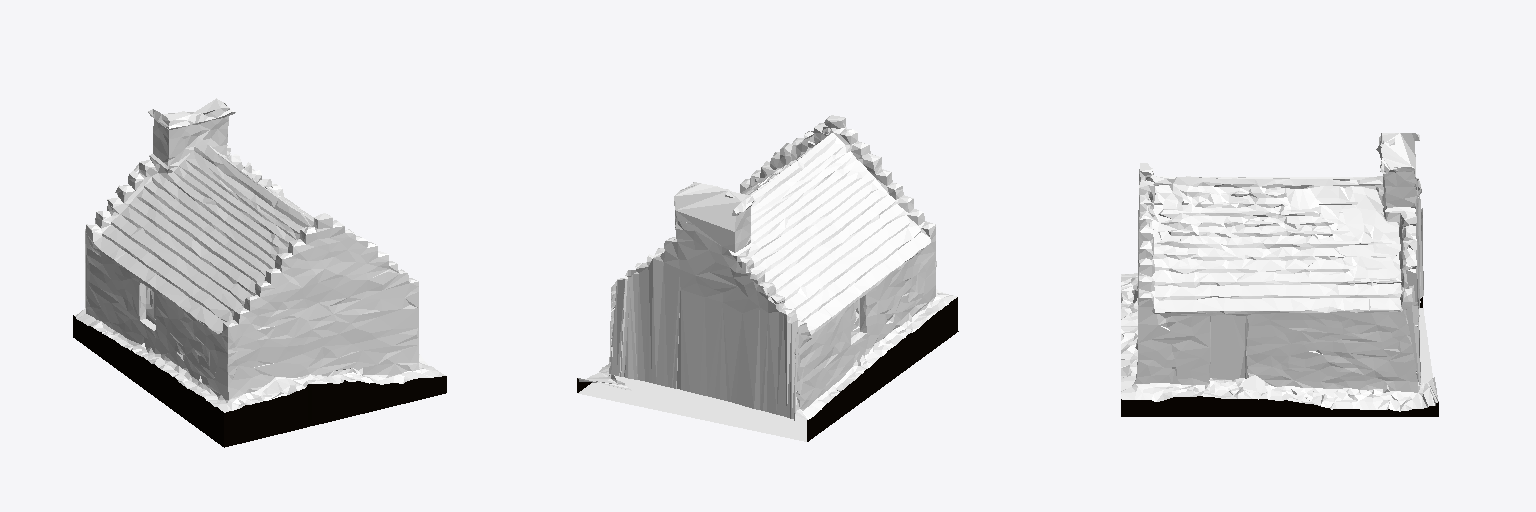
File: smallbuilding.obj
3 views of the same model, side by side, from view 1: azimuth 30°, elevation 25°; view 2: azimuth 150°, elevation 25°; view 3: azimuth 270°, elevation 25° (orthographic).
Parts seen in each view (by area): view 1: 00; view 2: 00; view 3: 00.
Boxes of the visible parts, box(x1,y1,x2,y2) form: 00: box(73, 98, 446, 447); 00: box(577, 115, 958, 441); 00: box(1121, 133, 1438, 416).
Size of the model in its own units: 10.5 by 9.62 by 12.96.